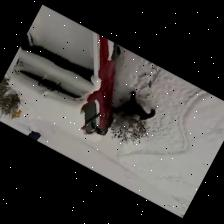person: (113, 90, 154, 119)
